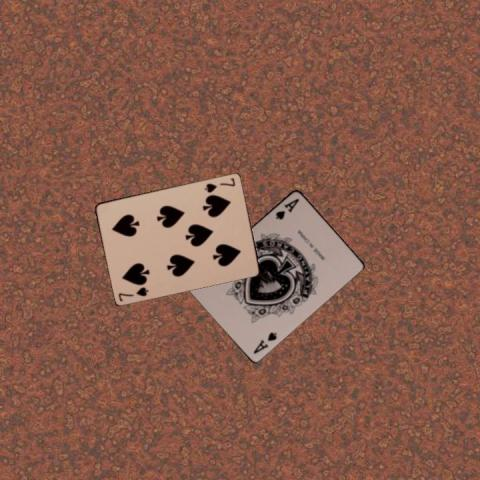7s: (201, 175, 237, 194), (115, 284, 150, 303)
As: (250, 328, 279, 354), (272, 195, 300, 221)
